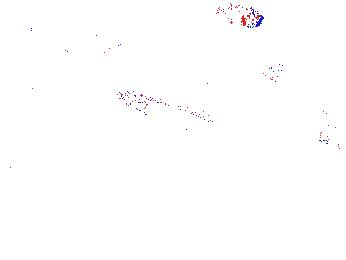X-ray fish: (214, 1, 265, 28), (261, 58, 298, 87), (316, 103, 332, 151), (182, 122, 220, 141)
glassfish: (116, 90, 240, 149)
red belly glassfish: (308, 36, 318, 51)
redtail glassfish: (59, 37, 118, 62)
